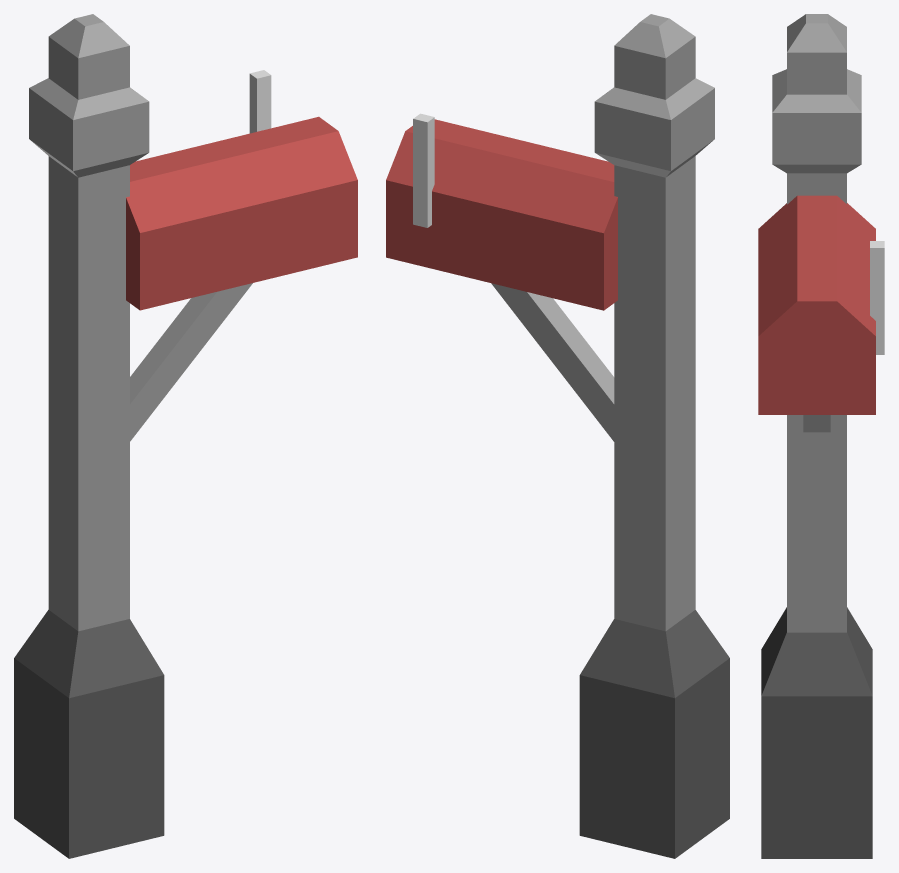
File: mailbox_2.fbx
The picture shows the model from 3 angles, left to right: view 1: azimuth 30°, elevation 25°; view 2: azimuth 150°, elevation 25°; view 3: azimuth 270°, elevation 25°; orthographic projection.
Visible parts, largest first — view 1: mailbox_2; view 2: mailbox_2; view 3: mailbox_2.
Boxes of the visible parts, x1=… form: mailbox_2: x1=14, y1=14, x2=357, y2=858; mailbox_2: x1=386, y1=14, x2=729, y2=858; mailbox_2: x1=758, y1=14, x2=884, y2=858.
Bounding box in the file's own units: 128 × 343 × 48.09.
